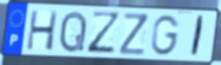G: (150, 14, 181, 57)
H: (25, 9, 60, 52)
I: (189, 14, 207, 58)
Q: (58, 10, 89, 55)
Z: (86, 9, 123, 55), (118, 12, 150, 57)
